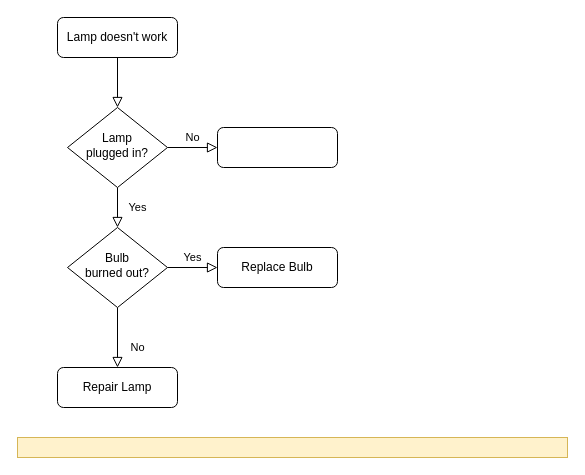
Some shapes in this 585 by 475 pixel diagram are drawn without their labels. The shapes that lost their labels are listed below. From the top down, each one's centre as x and y in pixels, then its label:
[277,147]: Plug in lamp
[292,447]: FDS TEST
